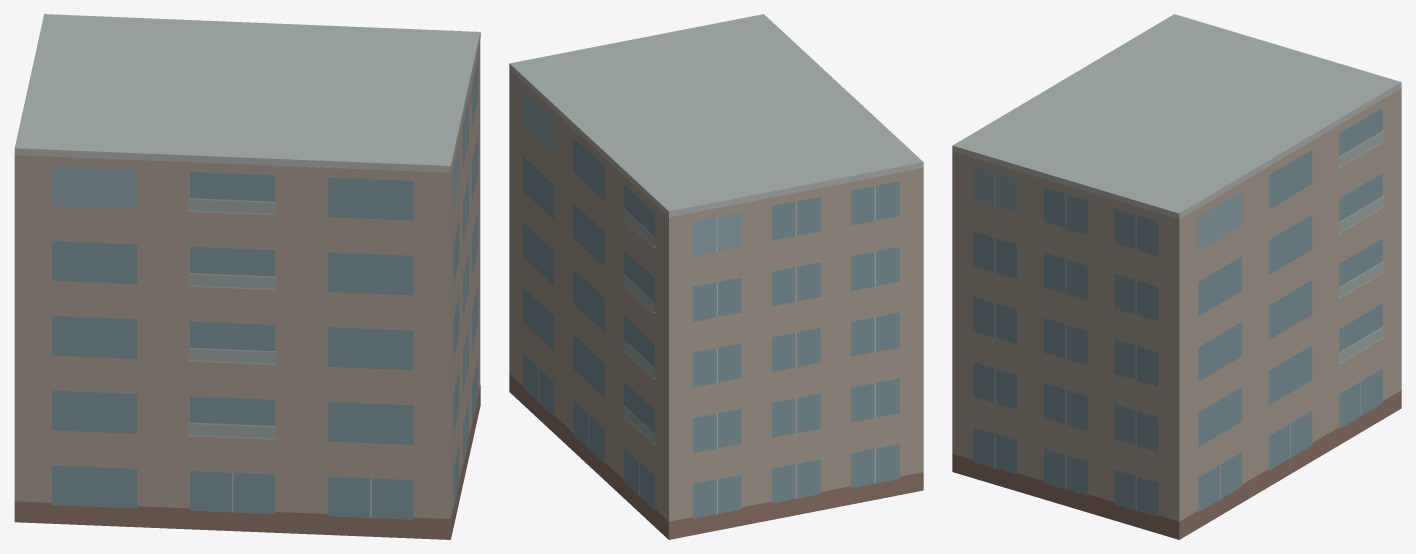
File: survey-upis-32981550.glb
3 views of the same model, side by side, from view 1: azimuth 30°, elevation 25°; view 2: azimuth 150°, elevation 25°; view 3: azimuth 270°, elevation 25° (orthographic). The views are drawn at different scales.
Visible parts, largest first — view 1: survey-upis-32981550.tmp; view 2: survey-upis-32981550.tmp; view 3: survey-upis-32981550.tmp.
Boxes of the visible parts, box(x1,y1,x2,y2) form: survey-upis-32981550.tmp: box(14, 14, 480, 539); survey-upis-32981550.tmp: box(509, 14, 923, 539); survey-upis-32981550.tmp: box(952, 14, 1401, 539).
Bounding box in the file's own units: 17.32 × 13.2 × 16.47.
